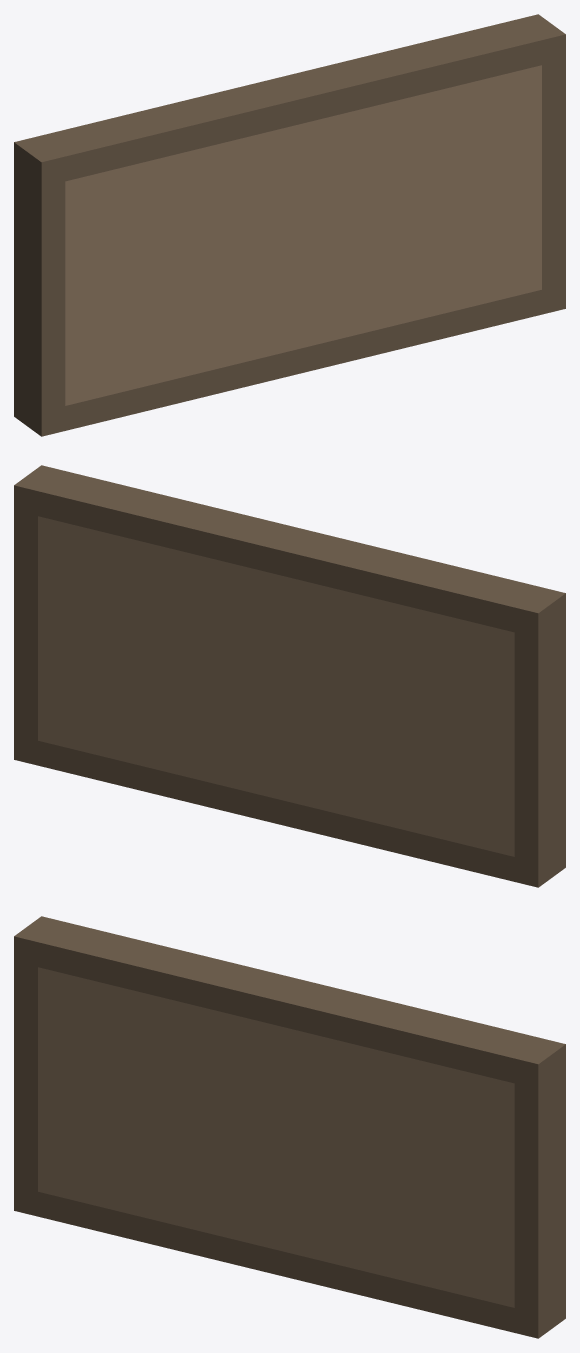
The model's file is trofeo_pared_grande_01.glb.
3 views of the same model, one above another, from view 1: azimuth 30°, elevation 25°; view 2: azimuth 150°, elevation 25°; view 3: azimuth 330°, elevation 25° (orthographic).
Parts seen in each view (by area): view 1: trofeo_pared_grande; view 2: trofeo_pared_grande; view 3: trofeo_pared_grande.
Part boxes in pixels (left/top/right/bottom): trofeo_pared_grande: left=14, top=14, right=565, bottom=436; trofeo_pared_grande: left=14, top=465, right=565, bottom=887; trofeo_pared_grande: left=14, top=916, right=565, bottom=1338.
Size of the model in its own units: 2 by 1 by 0.1818.
